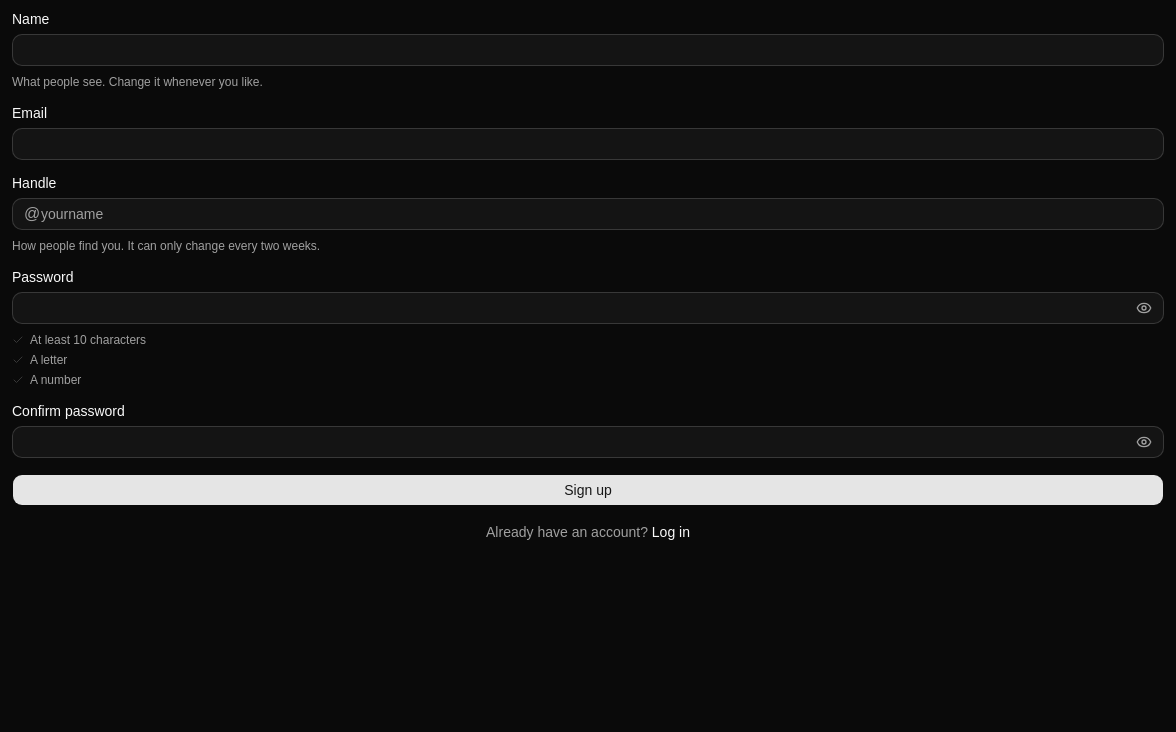
Test: AuthForm, proving who you are › counts down before another code can be asked for
Step 1. Type "Ada" into the field labelled "Name" → (588,50), box [12, 34, 1164, 66]
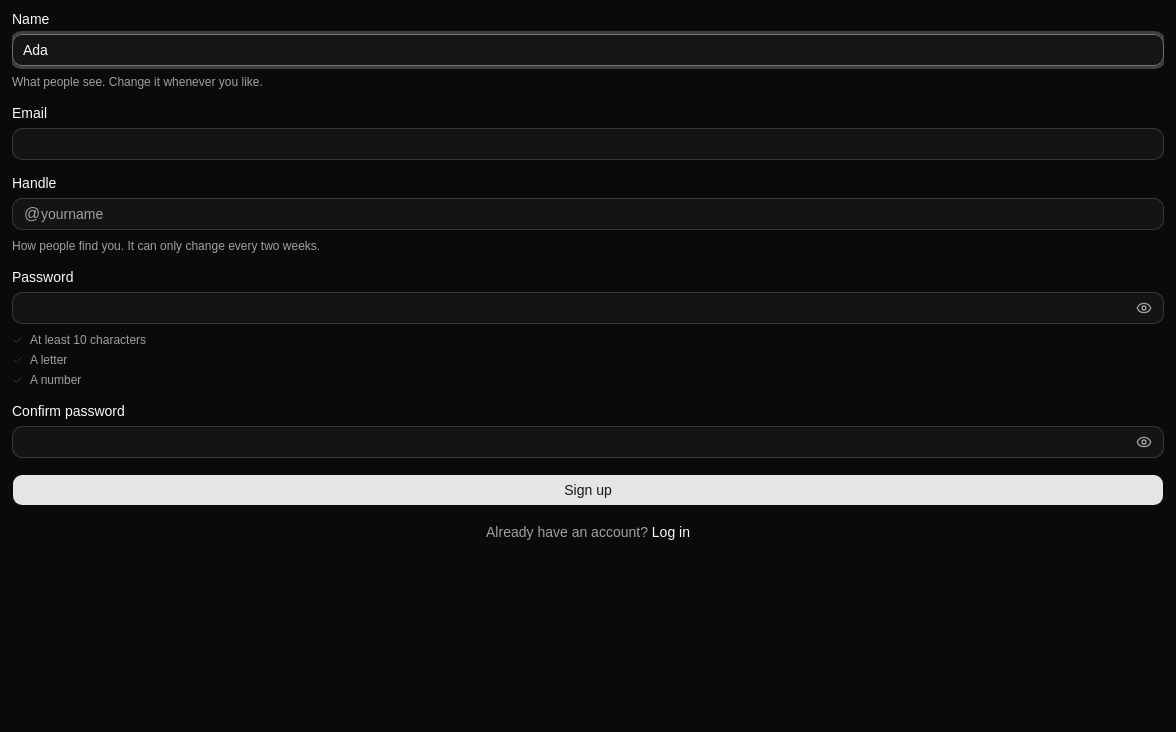
Step 2. Type "ada@example.com" into the field labelled "Email" → (588,144), box [12, 128, 1164, 160]
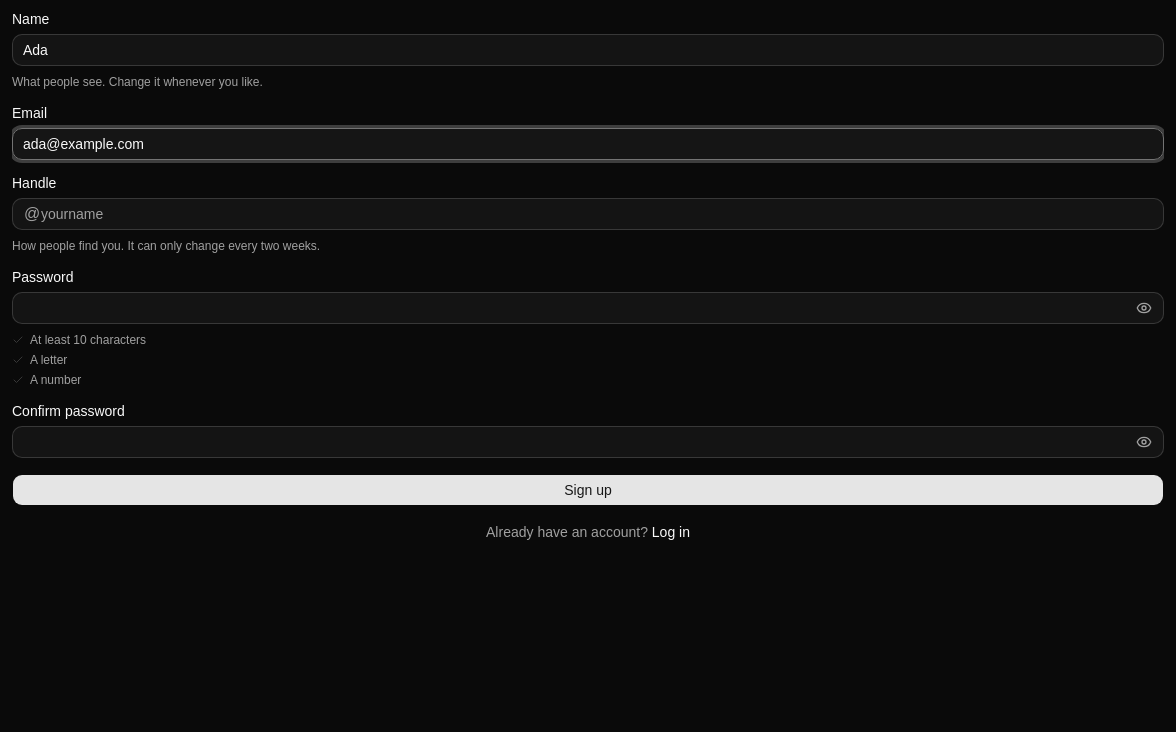
Step 3. Type "ada" into the field labelled "Handle" → (588,214), box [12, 198, 1164, 230]
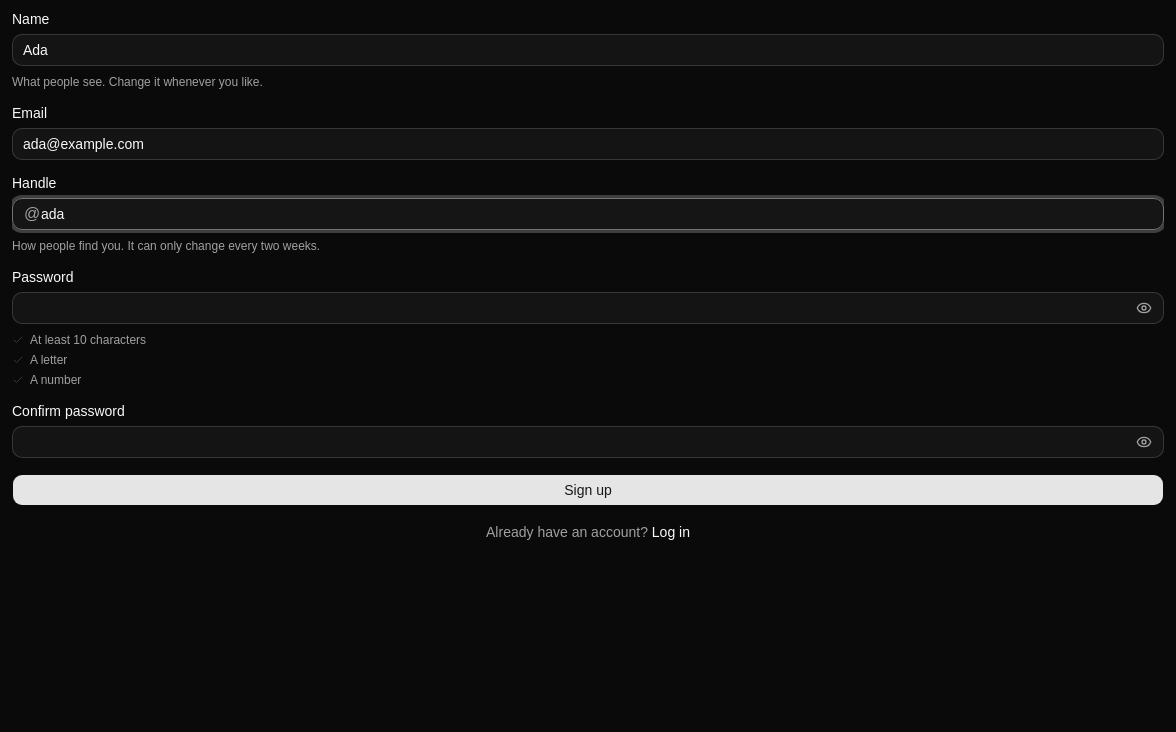
Step 4. Type "lovelace-1815" into the password field labelled "Password" → (588,308), box [12, 292, 1164, 324]
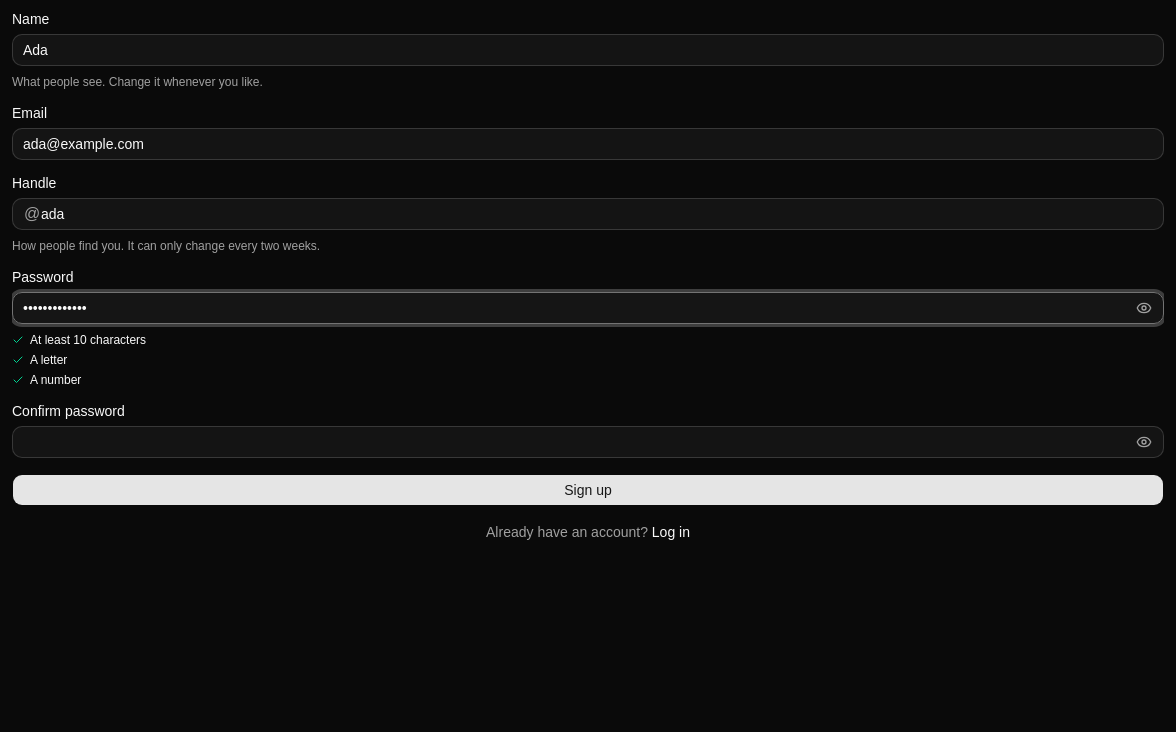
Step 5. Type "lovelace-1815" into the password field labelled "Confirm password" → (588,442), box [12, 426, 1164, 458]
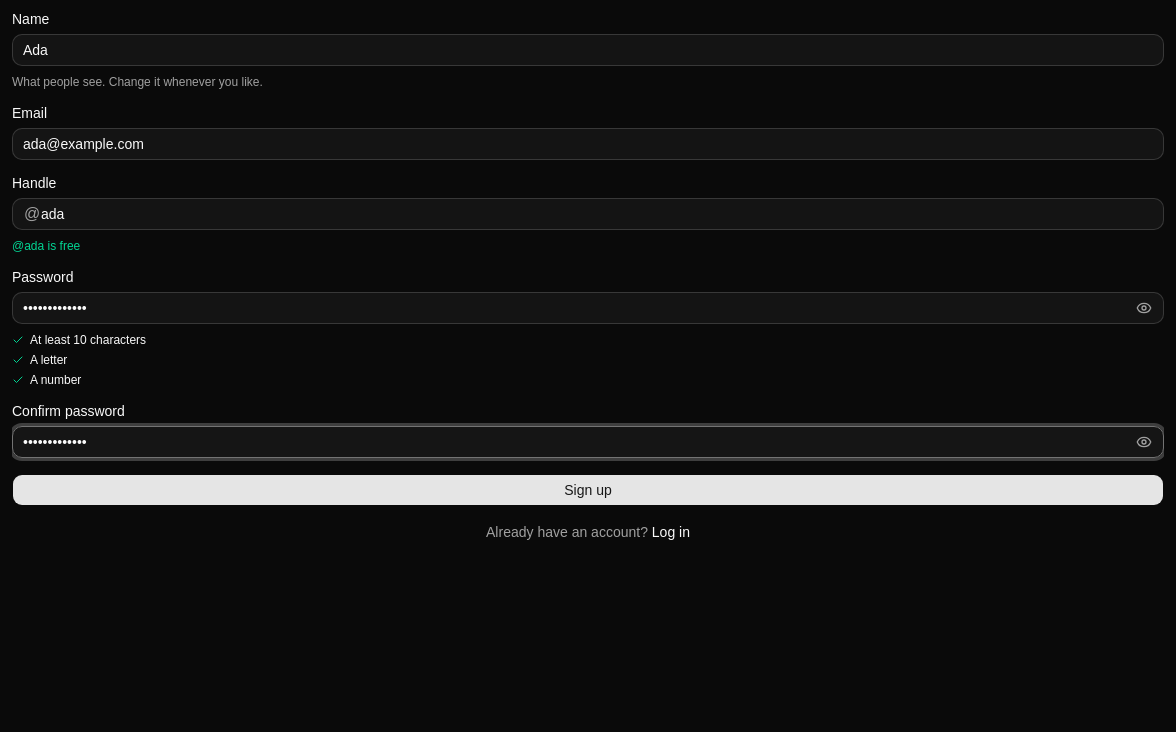
Step 6. Click the button "Sign up" → (588,490), box [12, 474, 1164, 506]
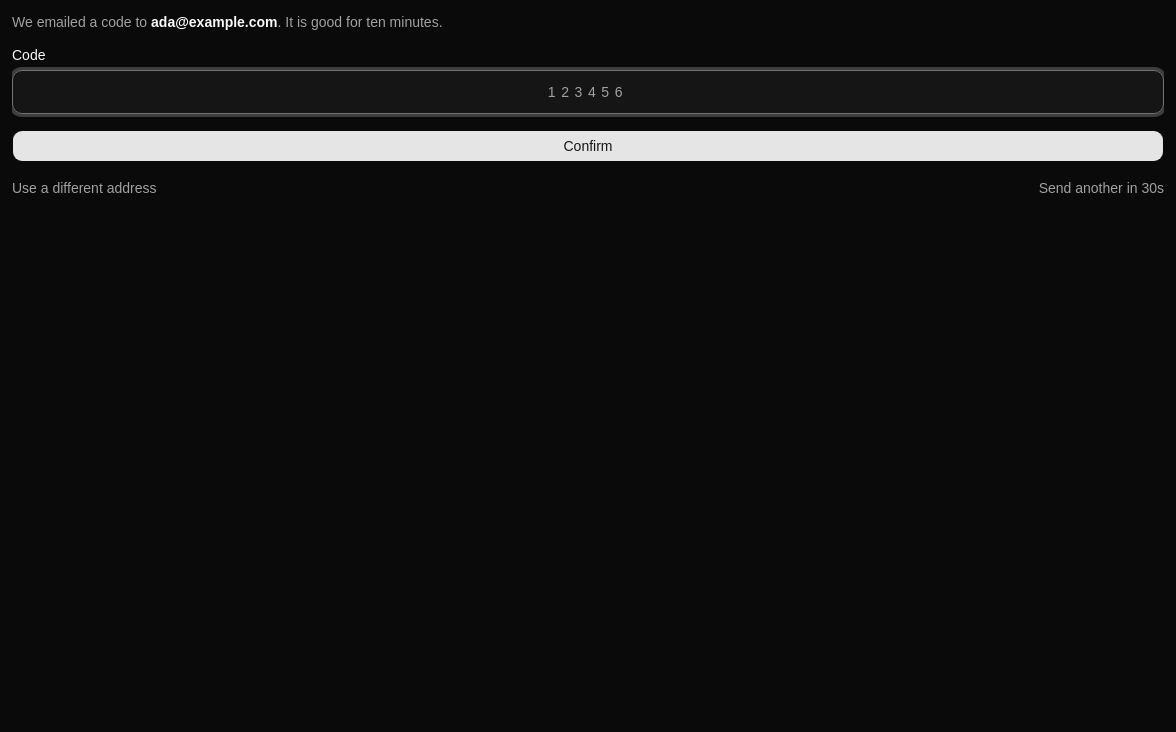
Expected: the button "Send another in 30s" is disabled, [1039, 178, 1164, 198]
